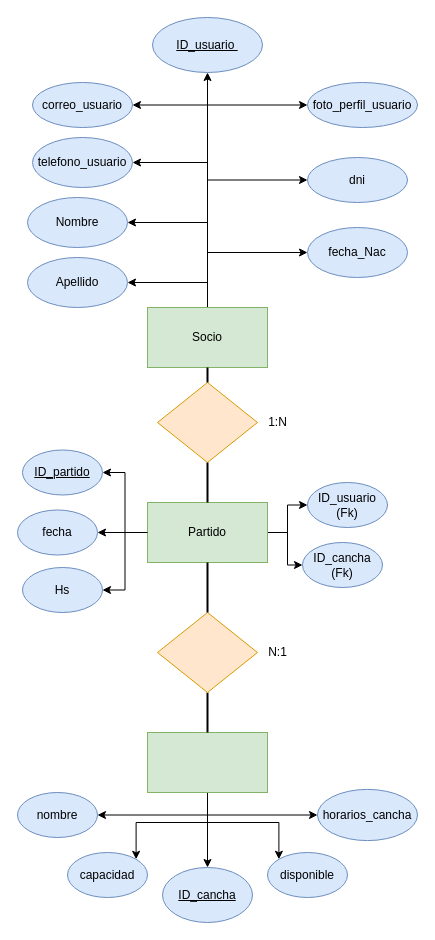
The diagram is 435 pixels wide and 940 high, and some of its shapes have lost their labels. Each missing label, with the box of its shape:
Canchas: (146, 732, 268, 792)
Reserva / Unirse: (156, 382, 258, 462)
Tiene: (156, 612, 258, 692)
